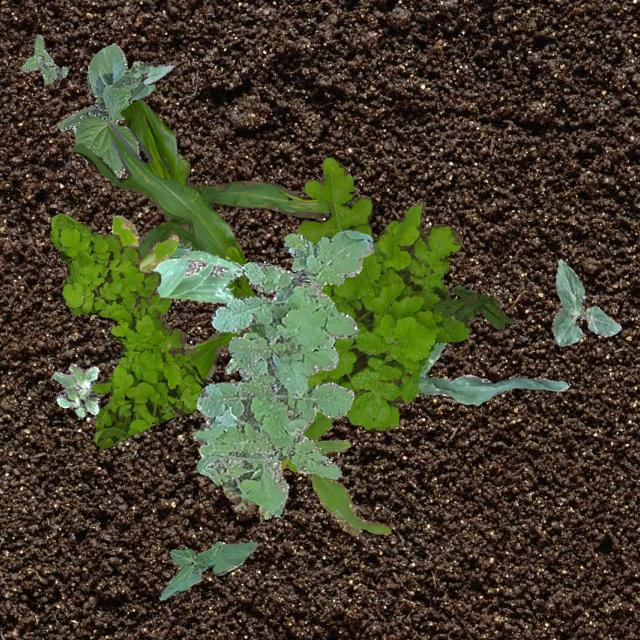crop: (72, 98, 330, 380), (56, 42, 138, 176), (280, 438, 390, 534), (417, 341, 568, 403), (550, 258, 620, 346), (158, 540, 256, 600), (224, 288, 292, 372), (142, 250, 246, 302), (111, 61, 172, 98)
weed: (192, 228, 374, 516), (296, 156, 468, 438), (48, 212, 208, 448), (110, 213, 180, 270), (432, 284, 512, 328), (50, 362, 100, 416), (18, 34, 68, 84), (222, 484, 268, 518), (163, 238, 194, 260)
